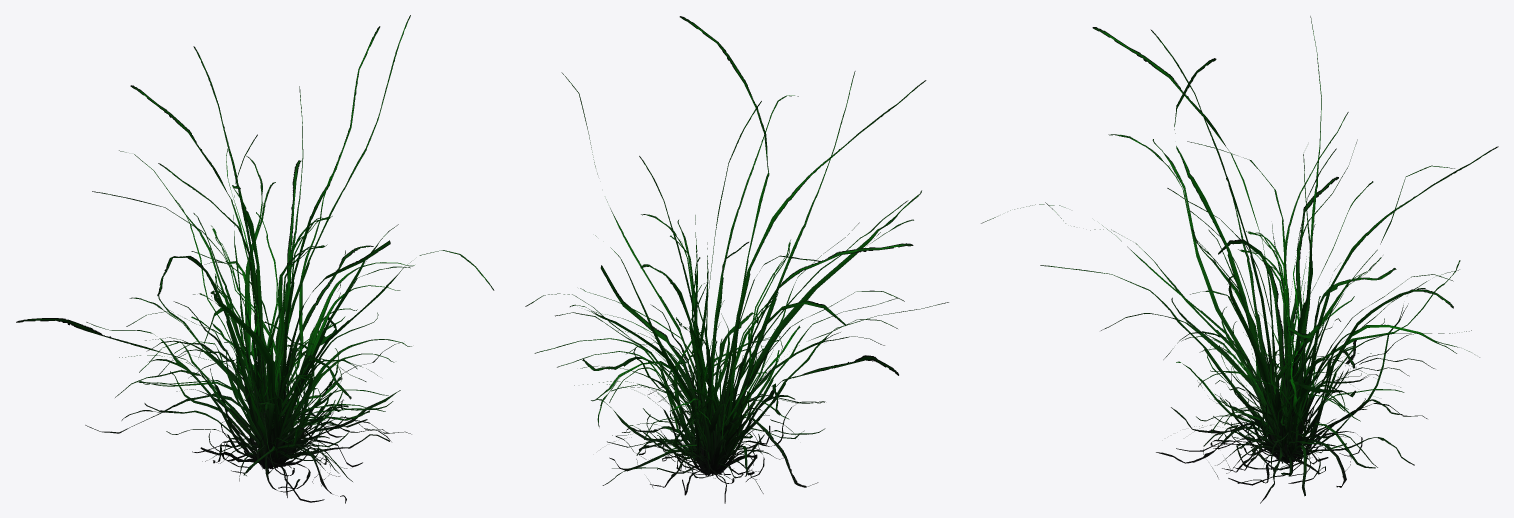
File: RavineGrass.glb
3 renders of one model, left to right at view 1: azimuth 30°, elevation 25°; view 2: azimuth 150°, elevation 25°; view 3: azimuth 270°, elevation 25°, orthographic. The views are drawn at different scales.
Parts seen in each view (by area): view 1: RavineGrass05, RavineGrass04, RavineGrass03, RavineGrass02, RavineGrass01; view 2: RavineGrass05, RavineGrass04, RavineGrass03, RavineGrass02, RavineGrass01; view 3: RavineGrass05, RavineGrass04, RavineGrass03, RavineGrass02, RavineGrass01.
Boxes of the visible parts, x1,y1,x2,y2 form: RavineGrass05: (16,15,494,488); RavineGrass04: (115,148,414,503); RavineGrass03: (172,212,400,483); RavineGrass02: (218,265,400,481); RavineGrass01: (202,293,343,476); RavineGrass05: (525,16,926,495); RavineGrass04: (534,222,948,503); RavineGrass03: (557,215,897,471); RavineGrass02: (597,300,804,485); RavineGrass01: (622,322,758,479); RavineGrass05: (981,16,1498,464); RavineGrass04: (1040,181,1471,485); RavineGrass03: (1188,209,1479,503); RavineGrass02: (1176,256,1414,496); RavineGrass01: (1215,282,1353,465).
Bounding box in the file's own units: 0.3556 × 0.4053 × 0.4332.
Materials: 1 (1 with a texture image).
